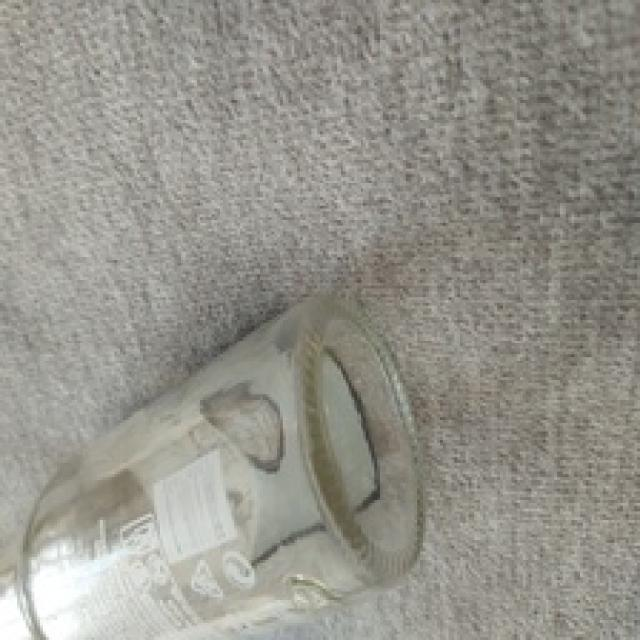Glass: (0, 291, 427, 640)
